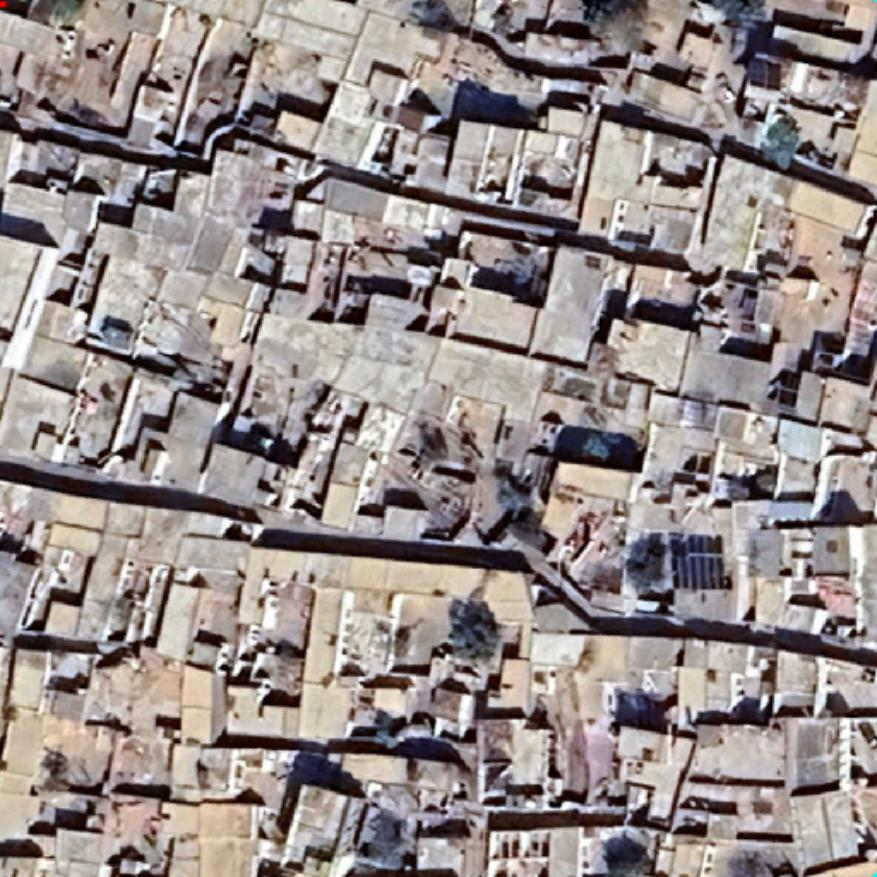Solarpanel: (666, 530, 732, 596), (744, 54, 784, 92)
